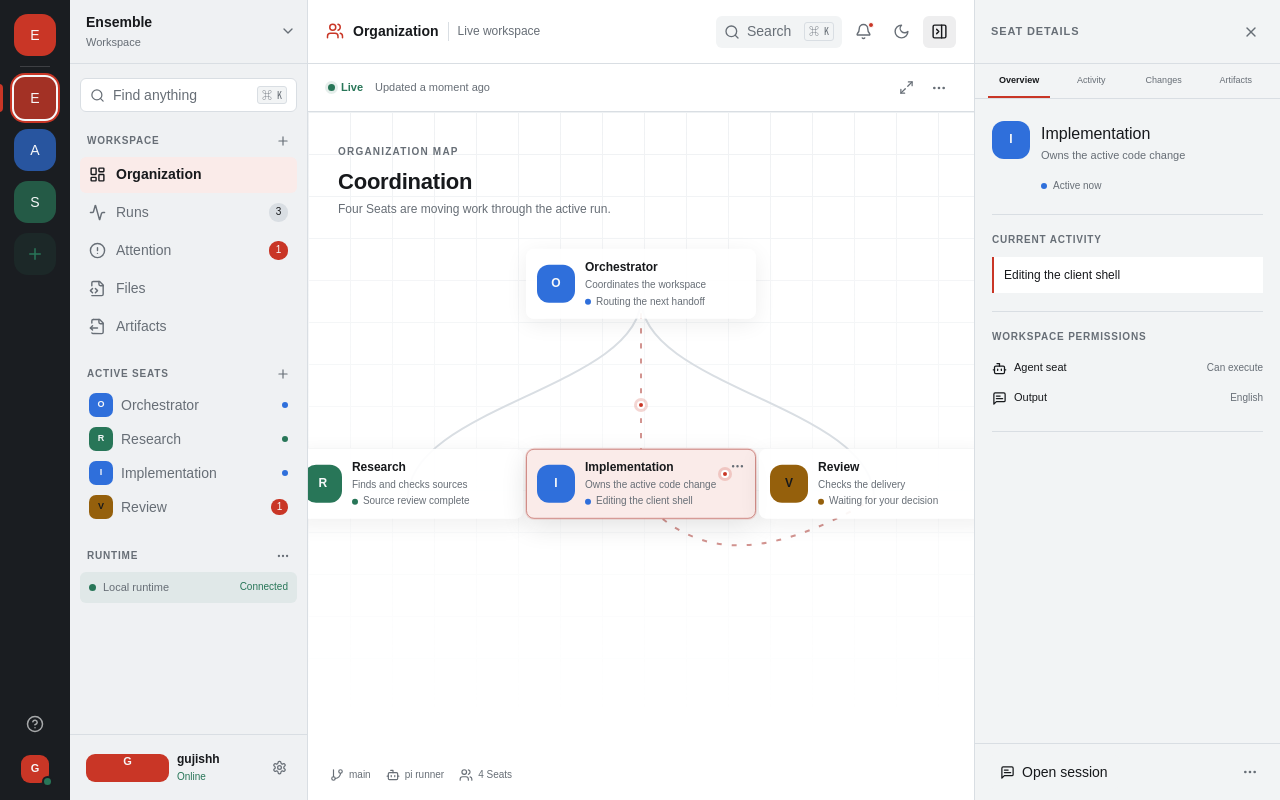
Test case: DiscordUiPreview output inspection › opens Workspace Files without assigning them to the selected Seat
This screenshot has width=1280, height=800.
Click the button "Files" at {"x": 188, "y": 288}, box [80, 270, 297, 306]
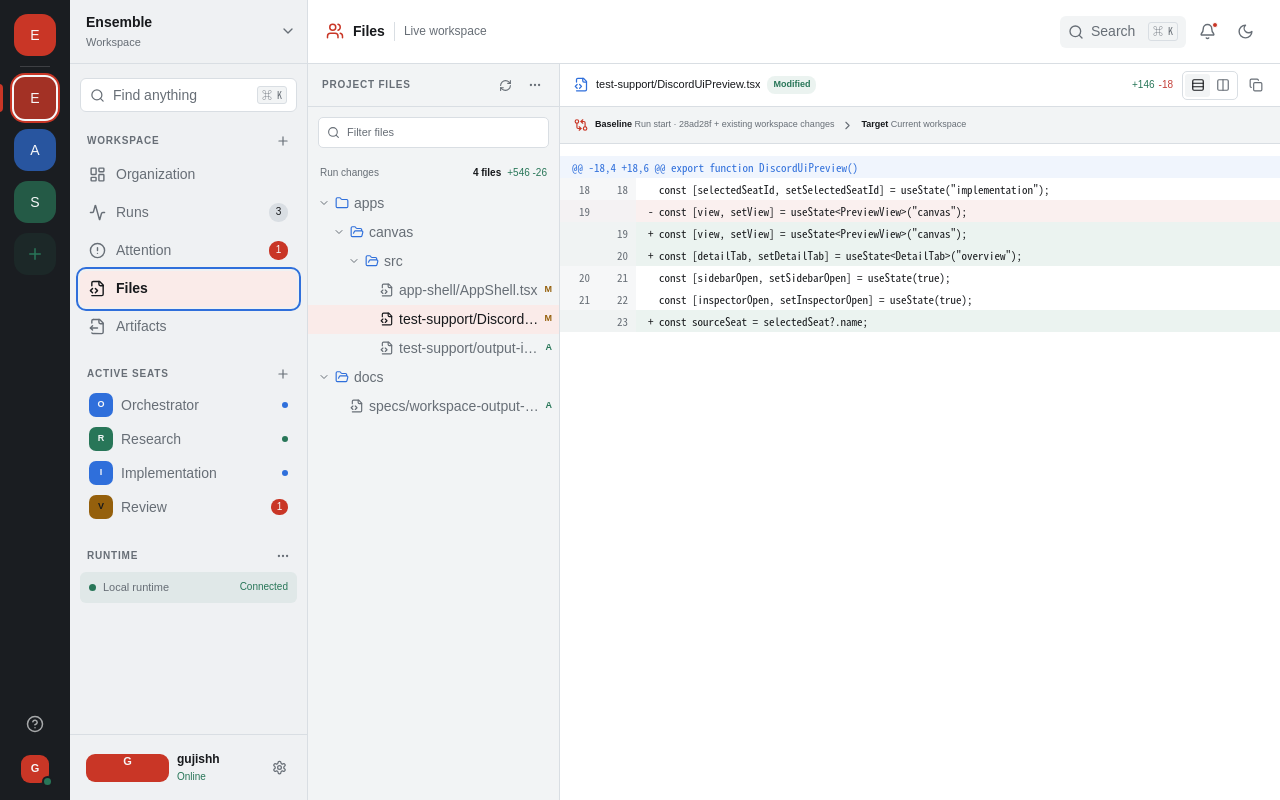
Check: the text "Project files" is shown, box [322, 78, 411, 92]
Check: the text "Baseline" is shown, box [595, 120, 632, 130]
